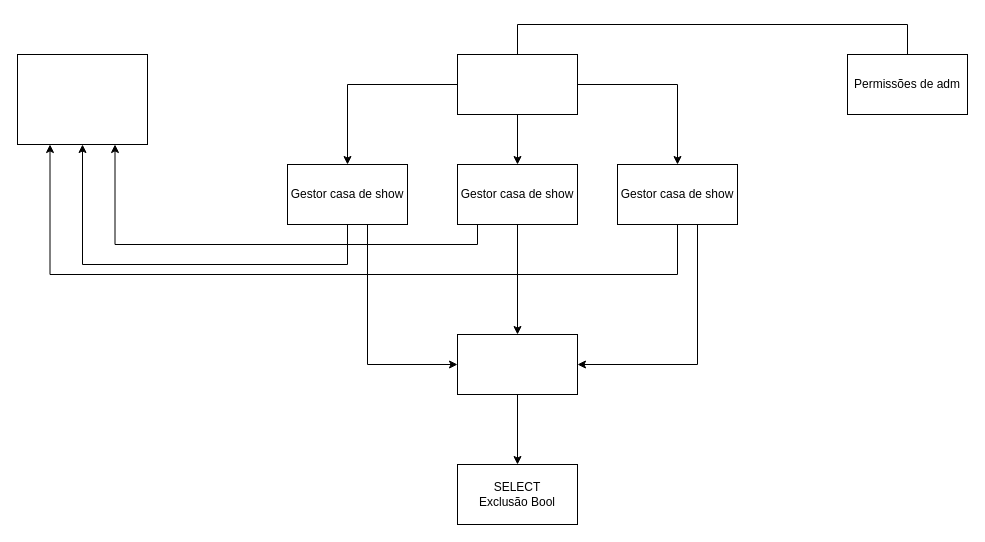
Some shapes in this 985 by 542 pixel diagram are drawn without their labels. Each missing label, with the centre of its shape:
"ADM" belongs at pixel 517 84.
"SELECT INSERT ALTER DELETE apenas de sí próprio" belongs at pixel 82 99.
"usuários" belongs at pixel 517 364.
